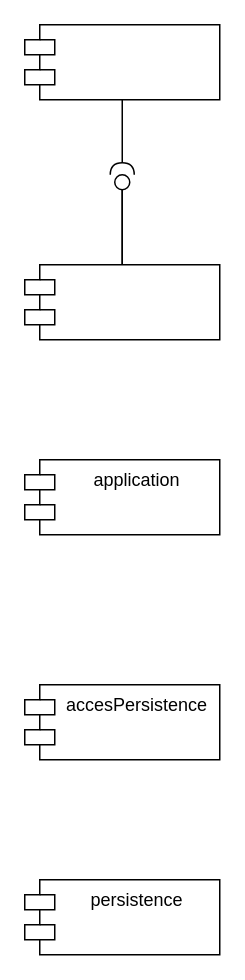
Some shapes in this 245 by 980 pixel diagram are drawn without their labels. The shapes that lost their labels are listed below. From the top down, each one's centre as x and y in pixels, then its label:
[121,61]: presentation
[121,301]: coordonnateur
